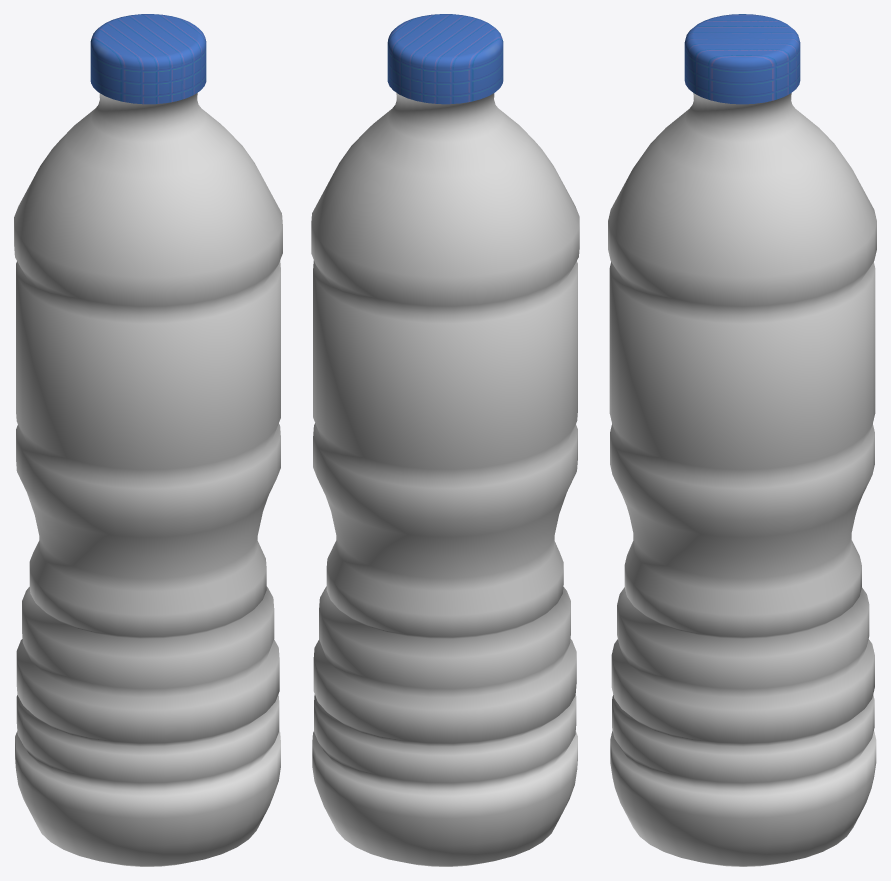
File: WaterBottle.fbx
3 renders of one model, left to right at view 1: azimuth 30°, elevation 25°; view 2: azimuth 150°, elevation 25°; view 3: azimuth 270°, elevation 25°, orthographic.
Parts seen in each view (by area): view 1: Bottle, Cap; view 2: Bottle, Cap; view 3: Bottle, Cap.
Boxes of the visible parts, x1=… form: Bottle: x1=14, y1=93, x2=282, y2=866; Cap: x1=90, y1=14, x2=206, y2=104; Bottle: x1=311, y1=93, x2=579, y2=866; Cap: x1=387, y1=14, x2=503, y2=104; Bottle: x1=608, y1=93, x2=876, y2=866; Cap: x1=684, y1=14, x2=800, y2=104.
Size of the model in its own units: 122 by 397 by 122.
